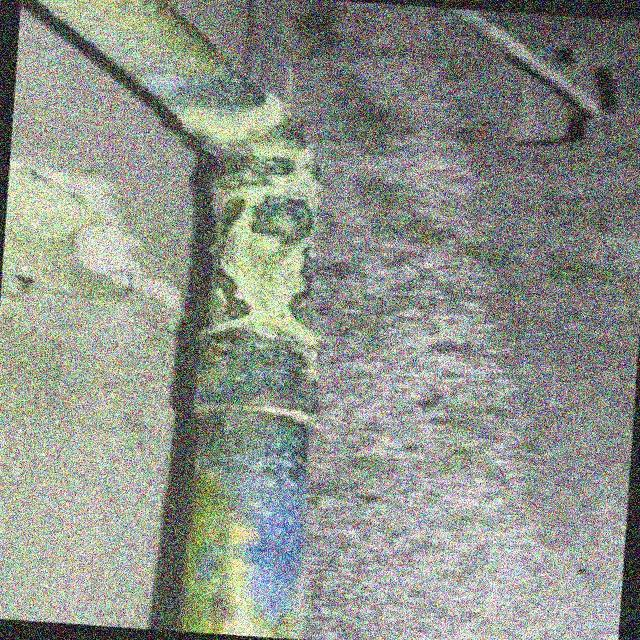rust: (0, 0, 349, 639)
